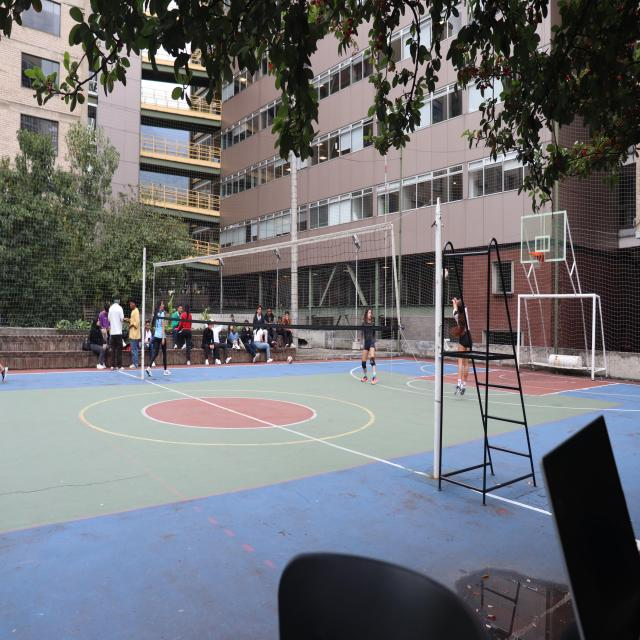volleyball: (288, 356, 292, 364)
